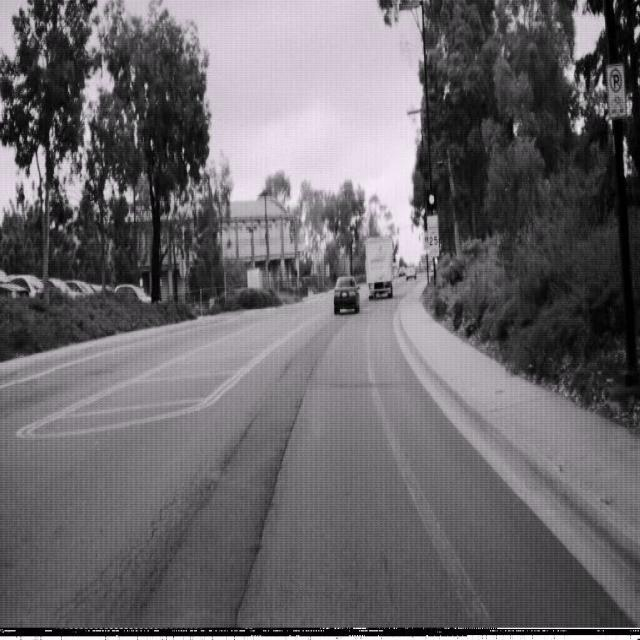speedLimit25: (426, 213, 439, 259)
